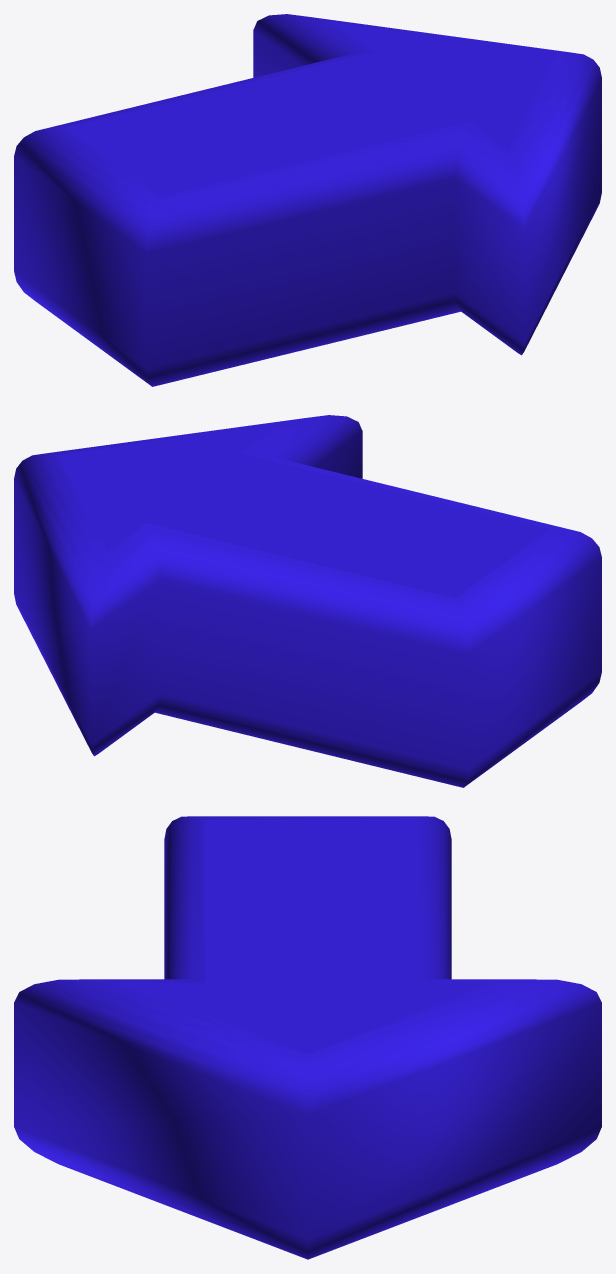
Rendered from arrow.fbx.
3 views of the same model, one above another, from view 1: azimuth 30°, elevation 25°; view 2: azimuth 150°, elevation 25°; view 3: azimuth 270°, elevation 25° (orthographic). The views are drawn at different scales.
Parts seen in each view (by area): view 1: テキスト; view 2: テキスト; view 3: テキスト.
Boxes of the visible parts, <box> form: テキスト: <box>14,14,601,386</box>; テキスト: <box>14,415,601,787</box>; テキスト: <box>14,816,601,1259</box>.
Size of the model in its own units: 95.29 by 32 by 85.94.
